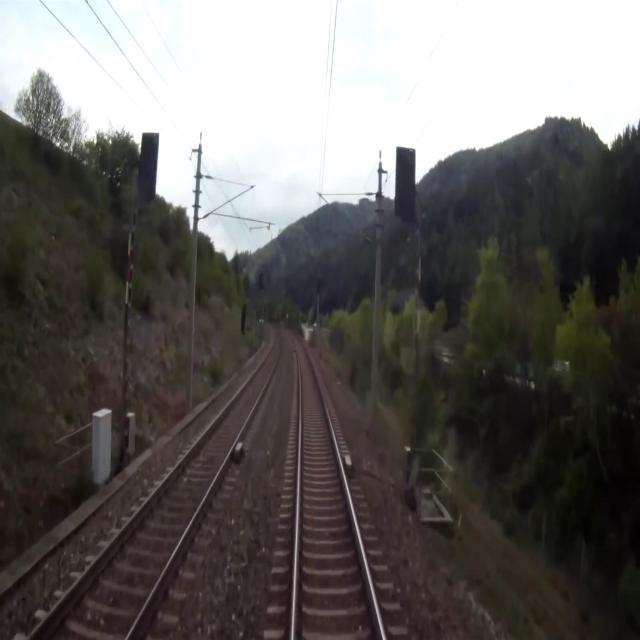rail-track: (32, 329, 279, 639), (294, 337, 381, 639)
